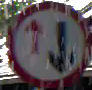Two way: (7, 1, 90, 88)
